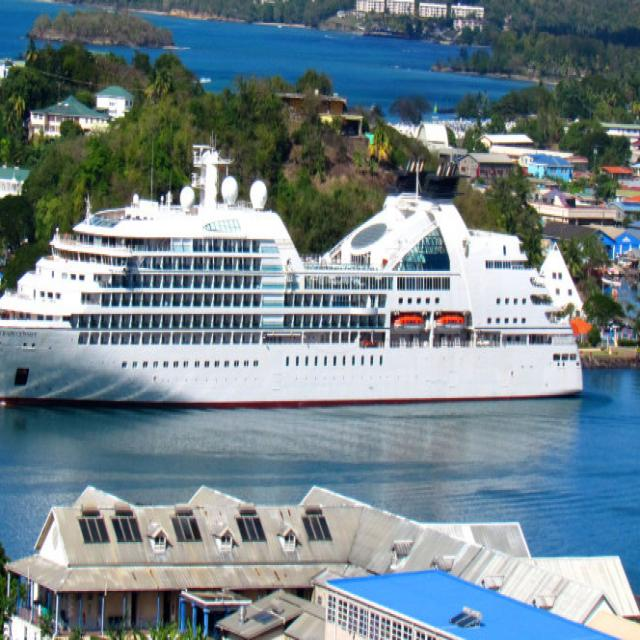cruises: (1, 139, 593, 419)
